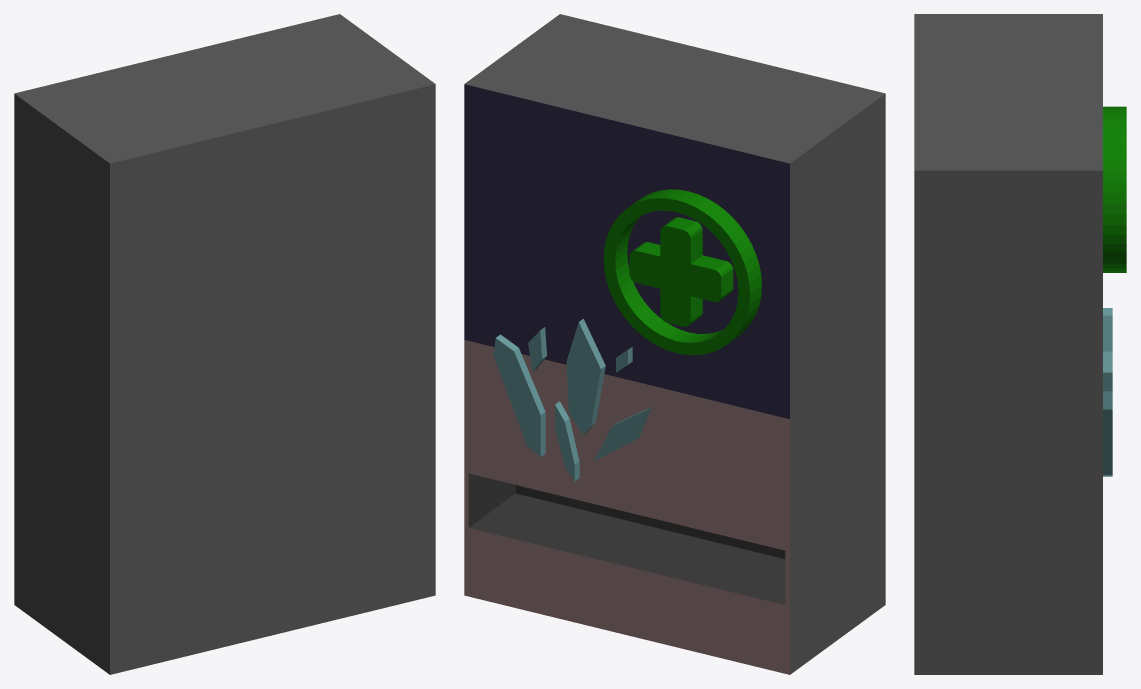
The model's file is vending-machine-custom.glb.
The picture shows the model from 3 angles, left to right: view 1: azimuth 30°, elevation 25°; view 2: azimuth 150°, elevation 25°; view 3: azimuth 270°, elevation 25°; orthographic projection.
Visible parts, largest first — view 1: Cube; view 2: Cube, Curve, Curve.001, Curve.009, Curve.010, Curve.008, Curve.012; view 3: Cube, Curve, Curve.009, Curve.011, Curve.010.
Part boxes in pixels (x1,y1,x2,y2): Cube: (14,14,435,674); Cube: (464,14,885,674); Curve: (603,189,761,355); Curve.001: (629,217,733,326); Curve.009: (493,334,545,457); Curve.010: (566,319,605,434); Curve.008: (594,407,651,460); Curve.012: (555,401,579,481); Cube: (914,14,1102,674); Curve: (1103,106,1126,272); Curve.009: (1103,391,1112,476); Curve.011: (1103,351,1112,391); Curve.010: (1103,315,1112,351).
Bounding box in the file's own units: 2 × 3 × 1.15.
